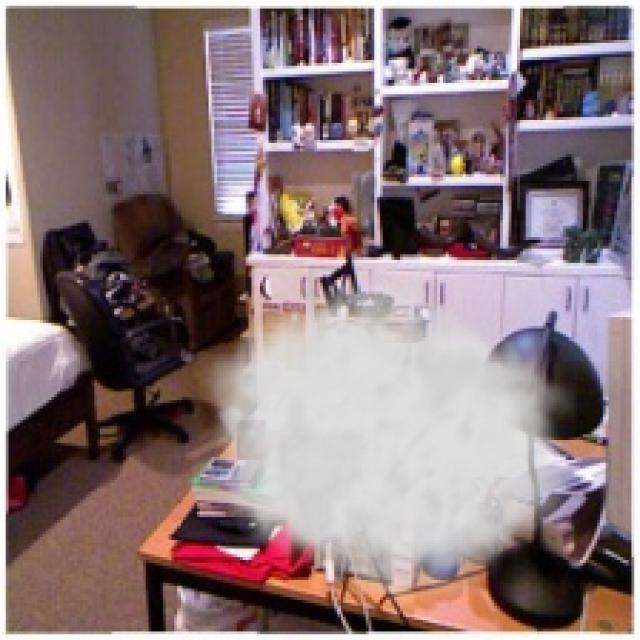Smoke: (192, 268, 577, 614)
